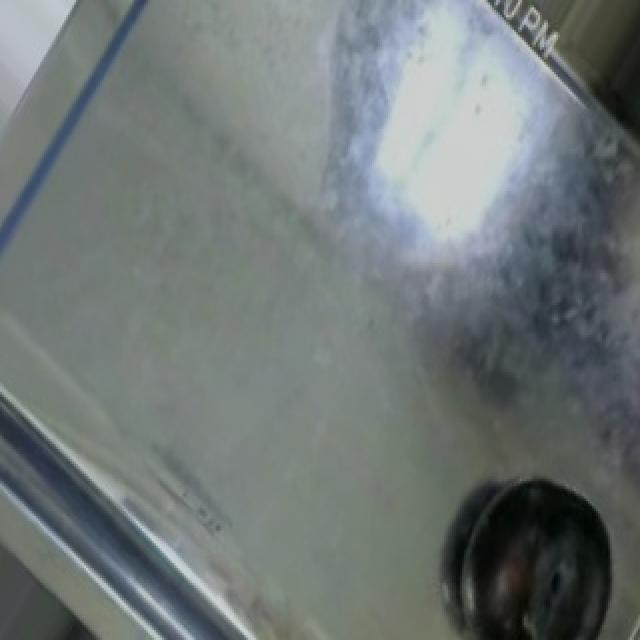Fruit: (442, 461, 640, 640), (534, 0, 640, 154)
